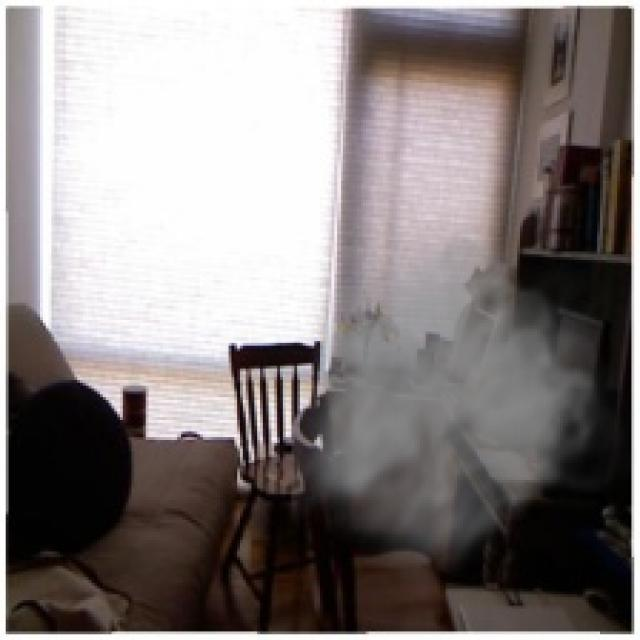Smoke: (292, 214, 637, 586)
